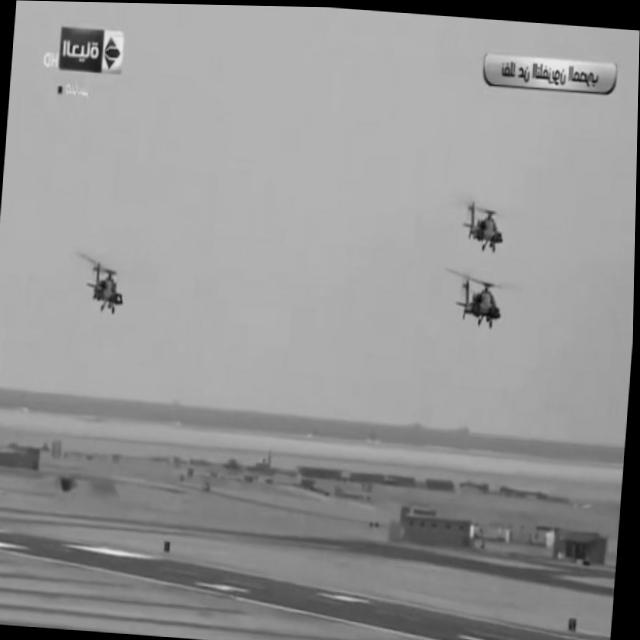helikopter: (62, 218, 150, 339), (443, 163, 528, 258), (434, 263, 519, 349)
